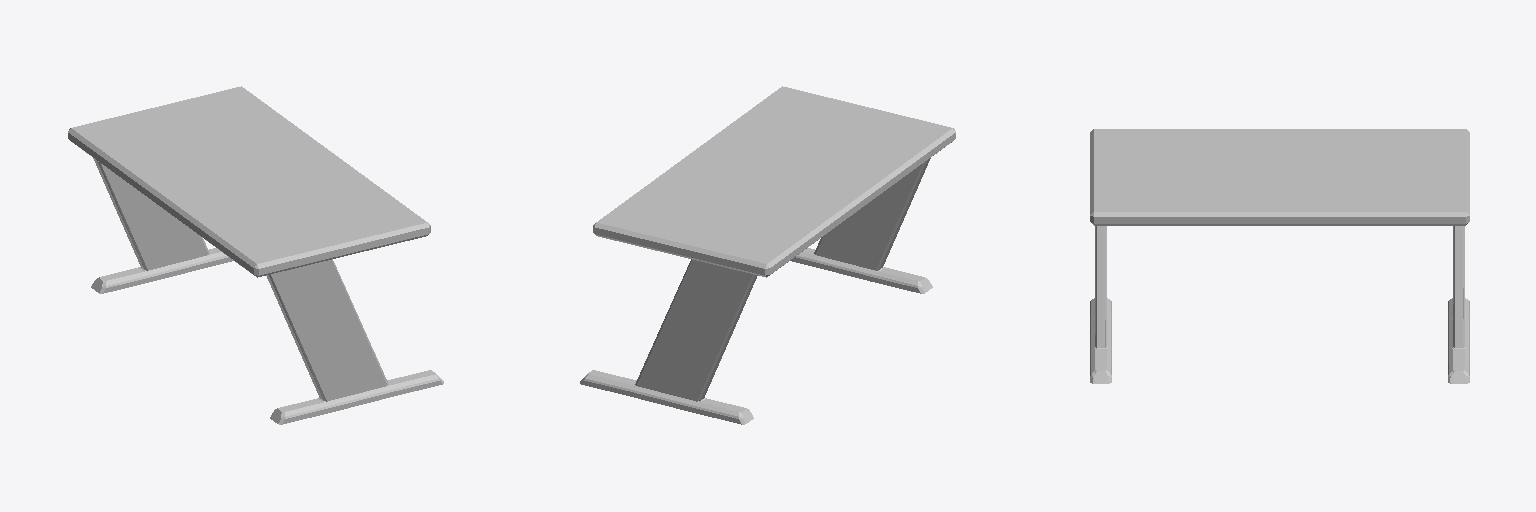
The model's file is FuturisticDesk.obj.
The picture shows the model from 3 angles: view 1: azimuth 30°, elevation 25°; view 2: azimuth 150°, elevation 25°; view 3: azimuth 270°, elevation 25°; orthographic projection.
Visible parts, largest first — view 1: pCube4; view 2: pCube4; view 3: pCube4.
Part boxes in pixels (bbox=[...]): pCube4: bbox=[68, 86, 443, 424]; pCube4: bbox=[580, 86, 955, 424]; pCube4: bbox=[1090, 129, 1469, 383].
Bounding box in the file's own units: 3.33 × 2.75 × 5.75.